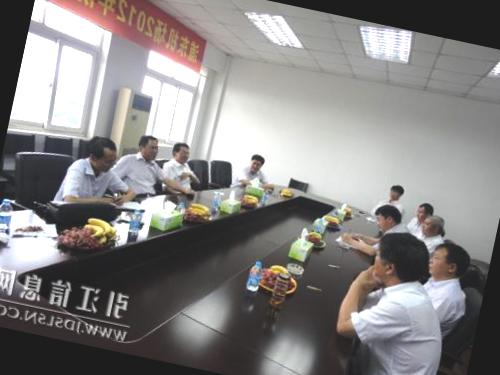no_helmet: (367, 225, 436, 296), (420, 232, 472, 288), (80, 132, 122, 174), (368, 200, 404, 237), (130, 130, 164, 164), (166, 138, 195, 166), (418, 211, 447, 238), (408, 196, 436, 223), (246, 148, 268, 176), (384, 180, 408, 204)
